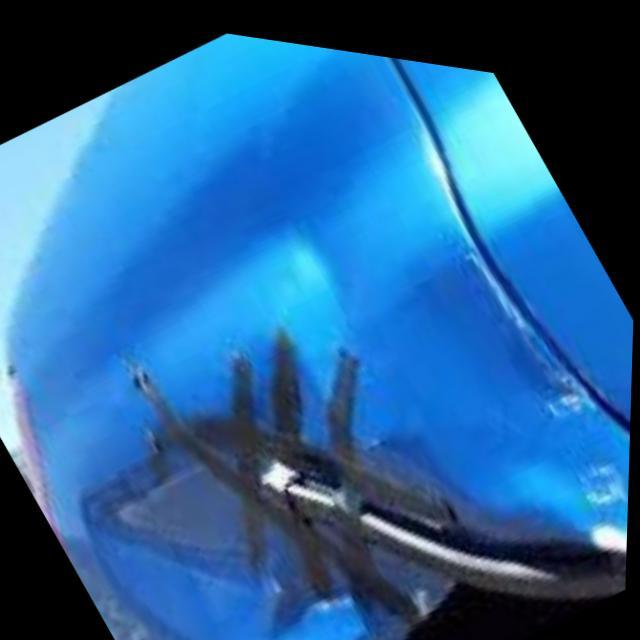dent: (455, 209, 630, 491)
dislocated part: (59, 356, 500, 640)
